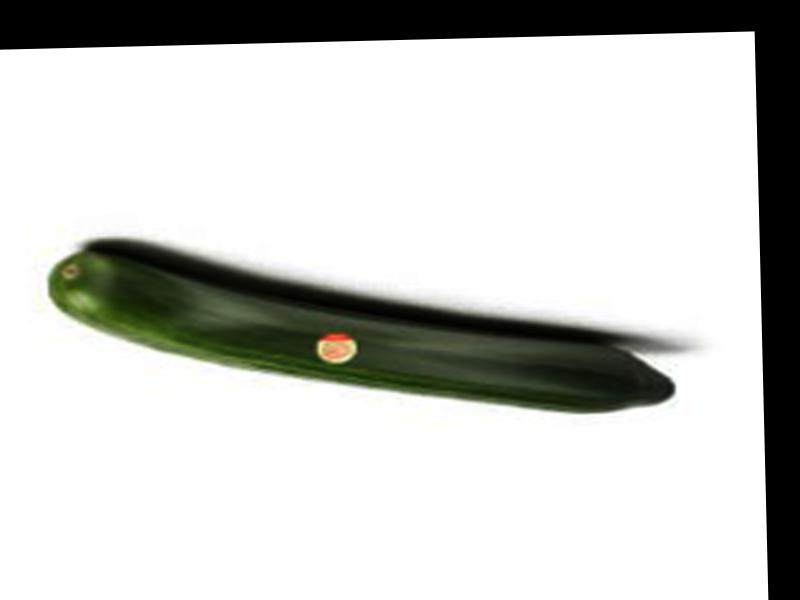Cucumber: (43, 236, 675, 426)
